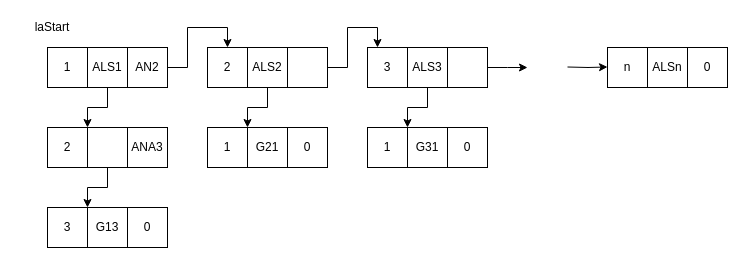
Some shapes in this 745 by 265 pixel diagram are drawn without their labels. The centre of each missing label's shape, as x and y in pixels:
AN3: the point at 307,67
AN4: the point at 467,67
G12: the point at 107,147
